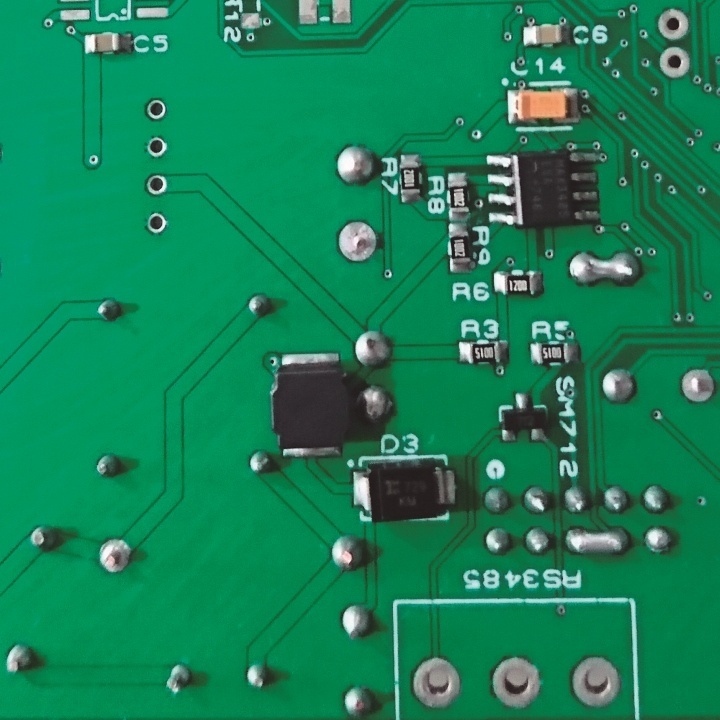F: (485, 651, 547, 710), (568, 652, 622, 712), (407, 652, 463, 709), (333, 215, 381, 267), (676, 366, 717, 405), (653, 8, 693, 44), (96, 536, 130, 575), (656, 46, 693, 79), (144, 132, 173, 162), (141, 95, 170, 123), (141, 170, 170, 197), (141, 207, 164, 238)
P: (566, 250, 641, 293), (560, 524, 629, 558)
